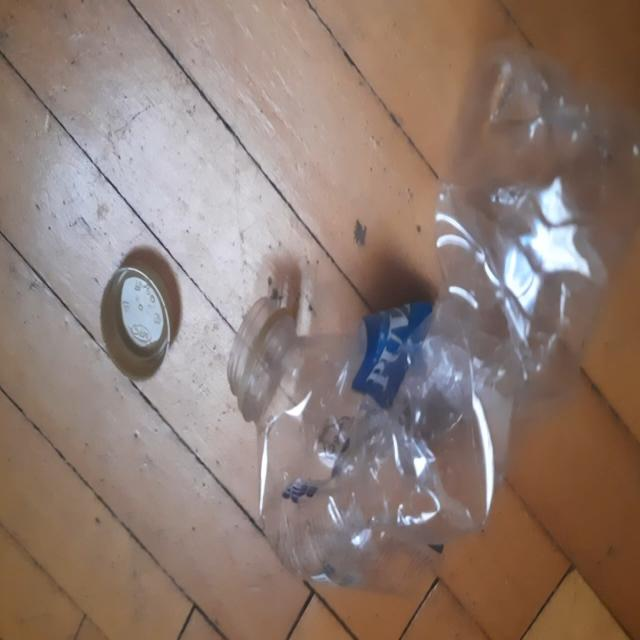Plastic: (227, 41, 637, 588)
